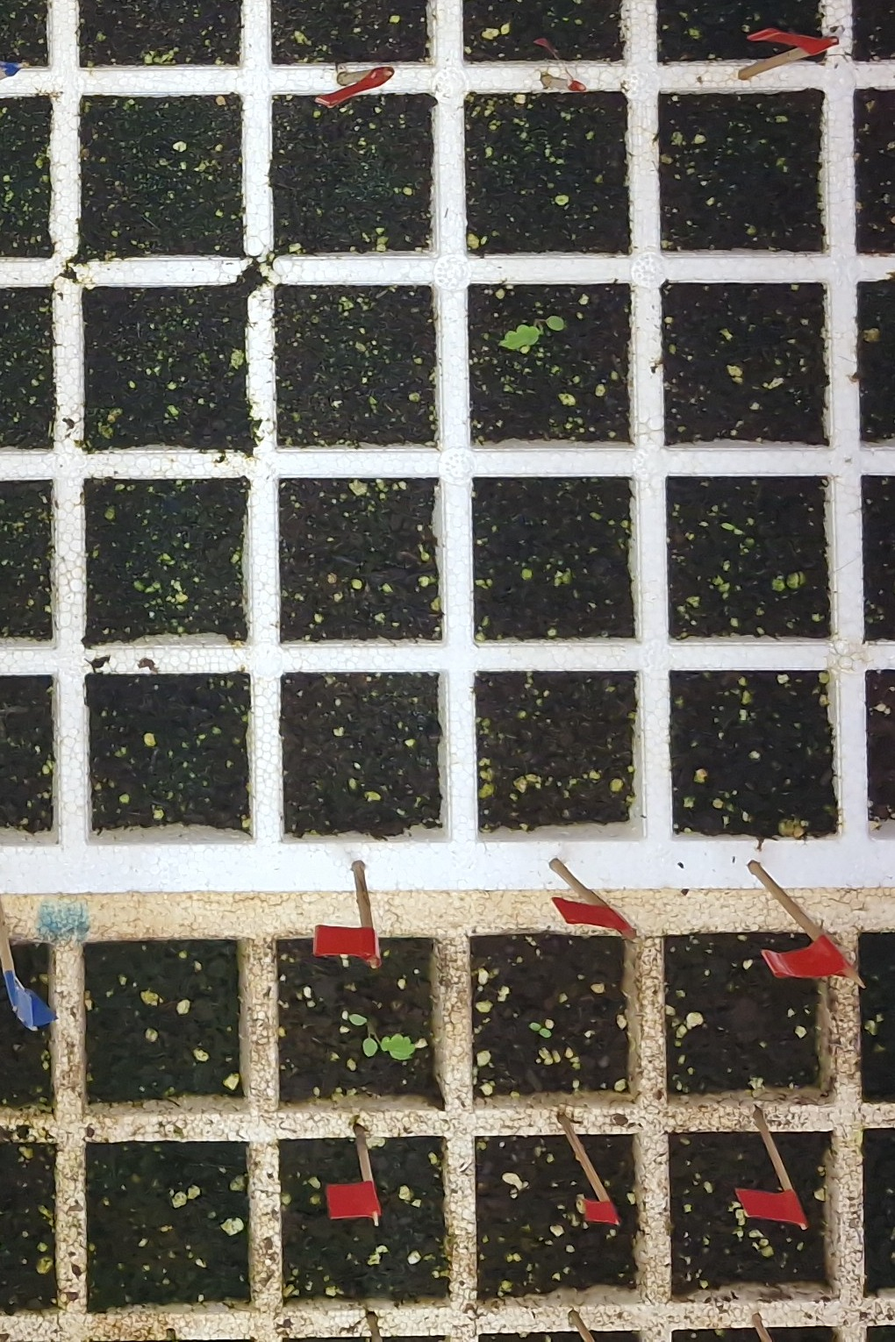Folha: (498, 325, 539, 349), (546, 316, 563, 330)
Germinacao: (500, 316, 564, 349)
